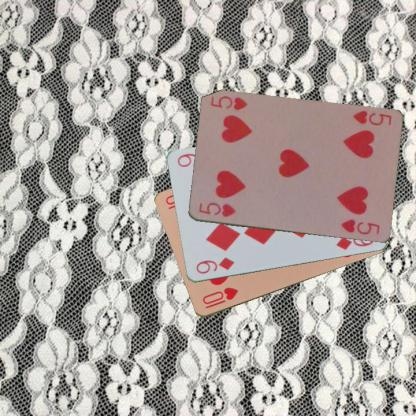10h: (199, 285, 240, 310)
5h: (350, 108, 392, 127), (196, 200, 236, 218)
9d: (193, 254, 235, 275)
